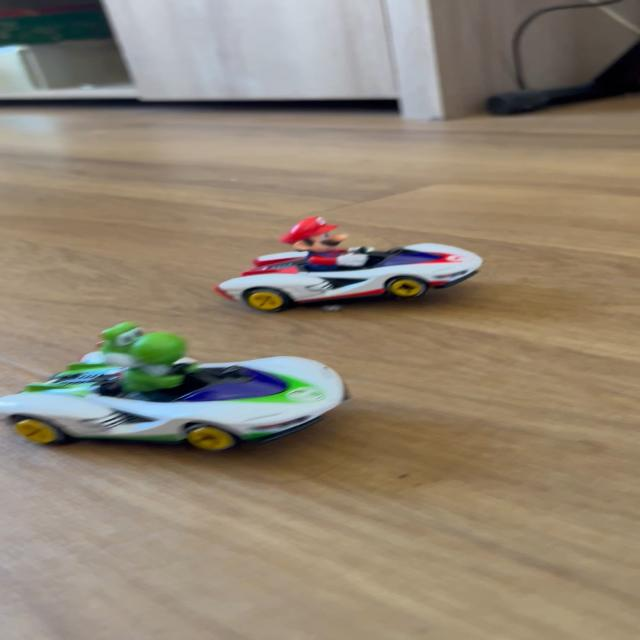mario: (203, 217, 493, 315)
yoshi: (0, 316, 362, 463)
